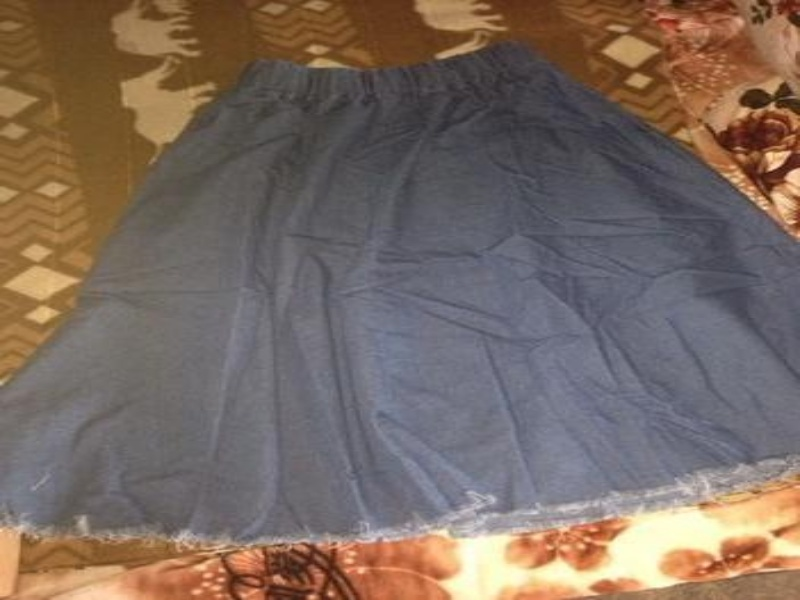skirt: (0, 38, 798, 550)
